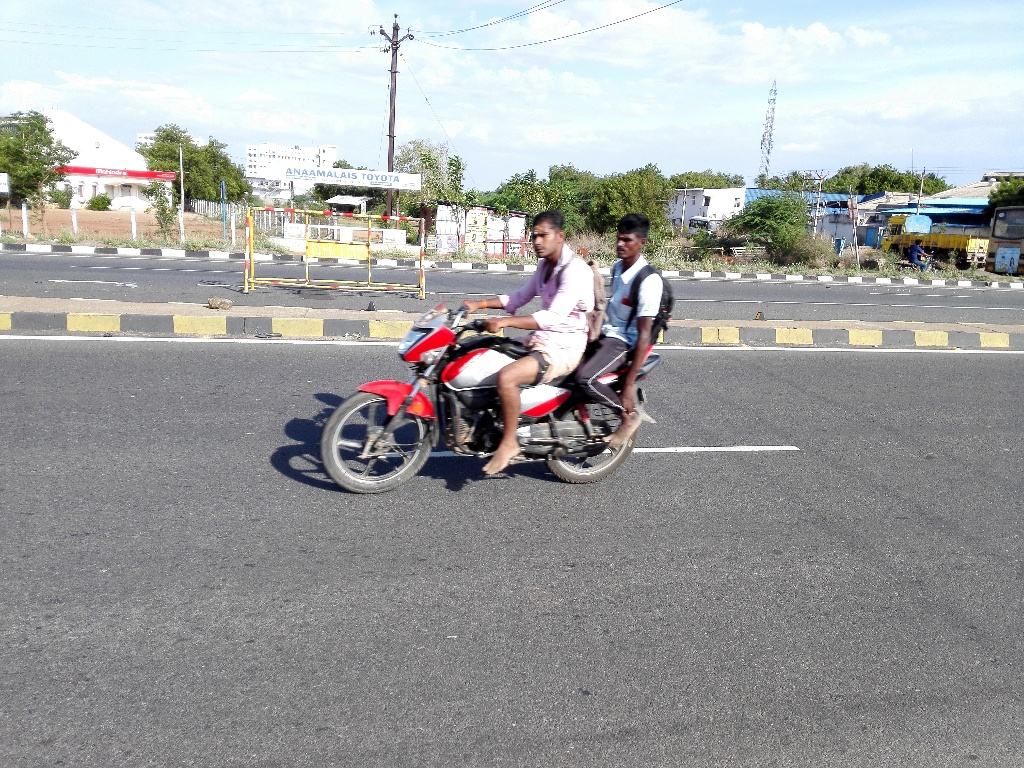biker: (288, 176, 715, 507)
nohelmet: (607, 195, 658, 277), (519, 196, 570, 278)
